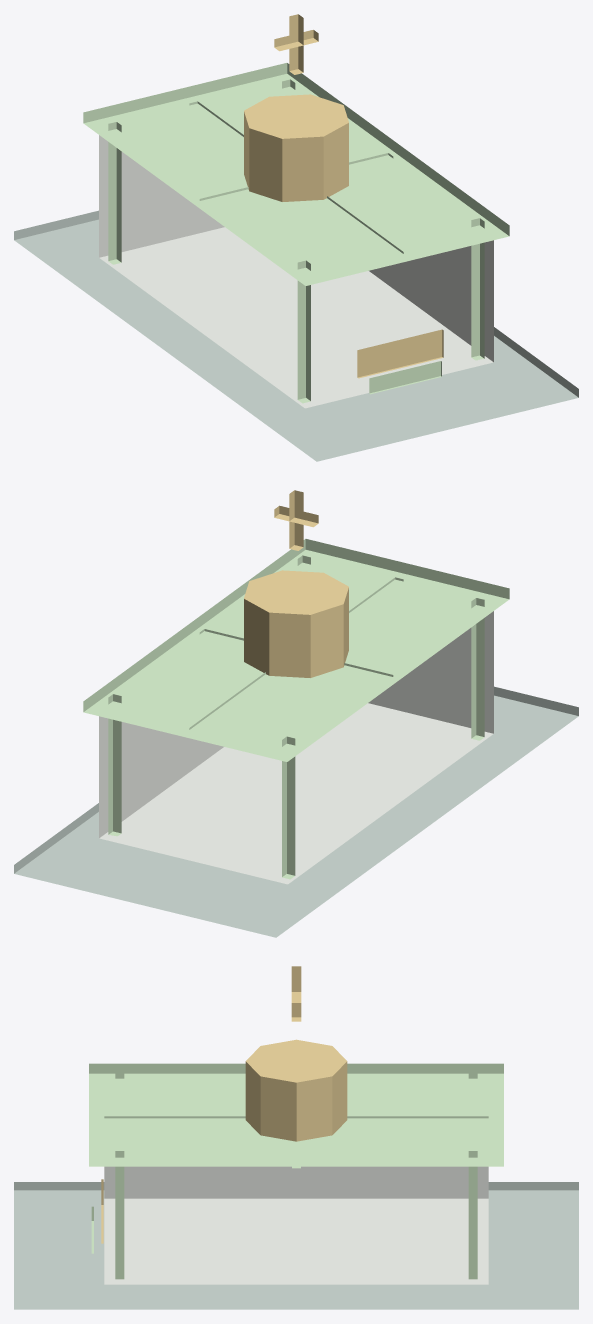
The model's file is temple.glb.
3 views of the same model, one above another, from view 1: azimuth 30°, elevation 25°; view 2: azimuth 150°, elevation 25°; view 3: azimuth 270°, elevation 25° (orthographic). The views are drawn at different scales.
Visible parts, largest first — view 1: Walls, Roof, Foundation, Details, Frame; view 2: Walls, Roof, Foundation, Details, Frame; view 3: Walls, Roof, Foundation, Details, Frame.
Part boxes in pixels (box(x1,y1,x2,y2)): Walls: box(99, 135, 493, 408); Roof: box(83, 63, 509, 285); Foundation: box(14, 210, 578, 461); Details: box(244, 14, 443, 394); Frame: box(108, 79, 484, 403); Walls: box(99, 611, 493, 884); Roof: box(83, 539, 509, 761); Foundation: box(14, 686, 578, 937); Details: box(244, 490, 348, 677); Frame: box(108, 555, 484, 879); Walls: box(104, 1166, 488, 1284); Roof: box(89, 1063, 503, 1166); Foundation: box(14, 1182, 578, 1309); Details: box(91, 966, 347, 1253); Frame: box(104, 1072, 488, 1279).
Bounding box in the file's own units: 20 × 22 × 40.
